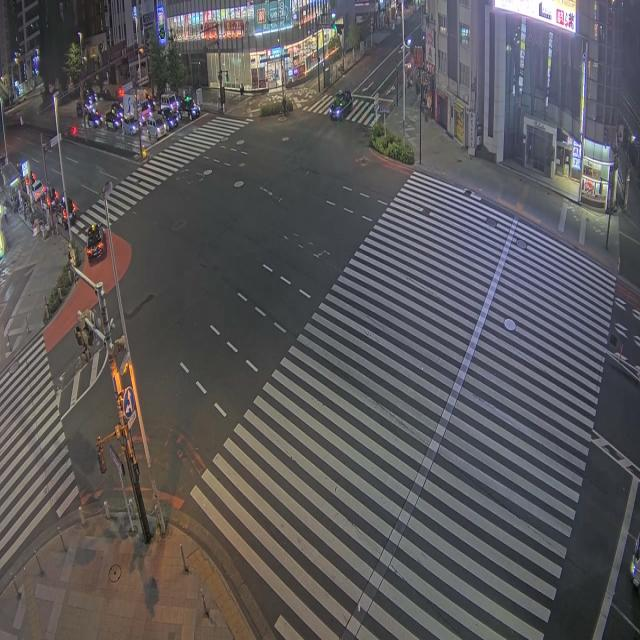car: (86, 224, 105, 261), (54, 196, 77, 225), (329, 90, 352, 119), (178, 96, 200, 119), (158, 107, 178, 130), (122, 115, 140, 135), (32, 180, 46, 202), (54, 204, 68, 226), (105, 112, 121, 130), (88, 111, 103, 127), (111, 103, 123, 118), (76, 102, 84, 117)
van: (146, 114, 167, 139), (160, 93, 178, 111)
